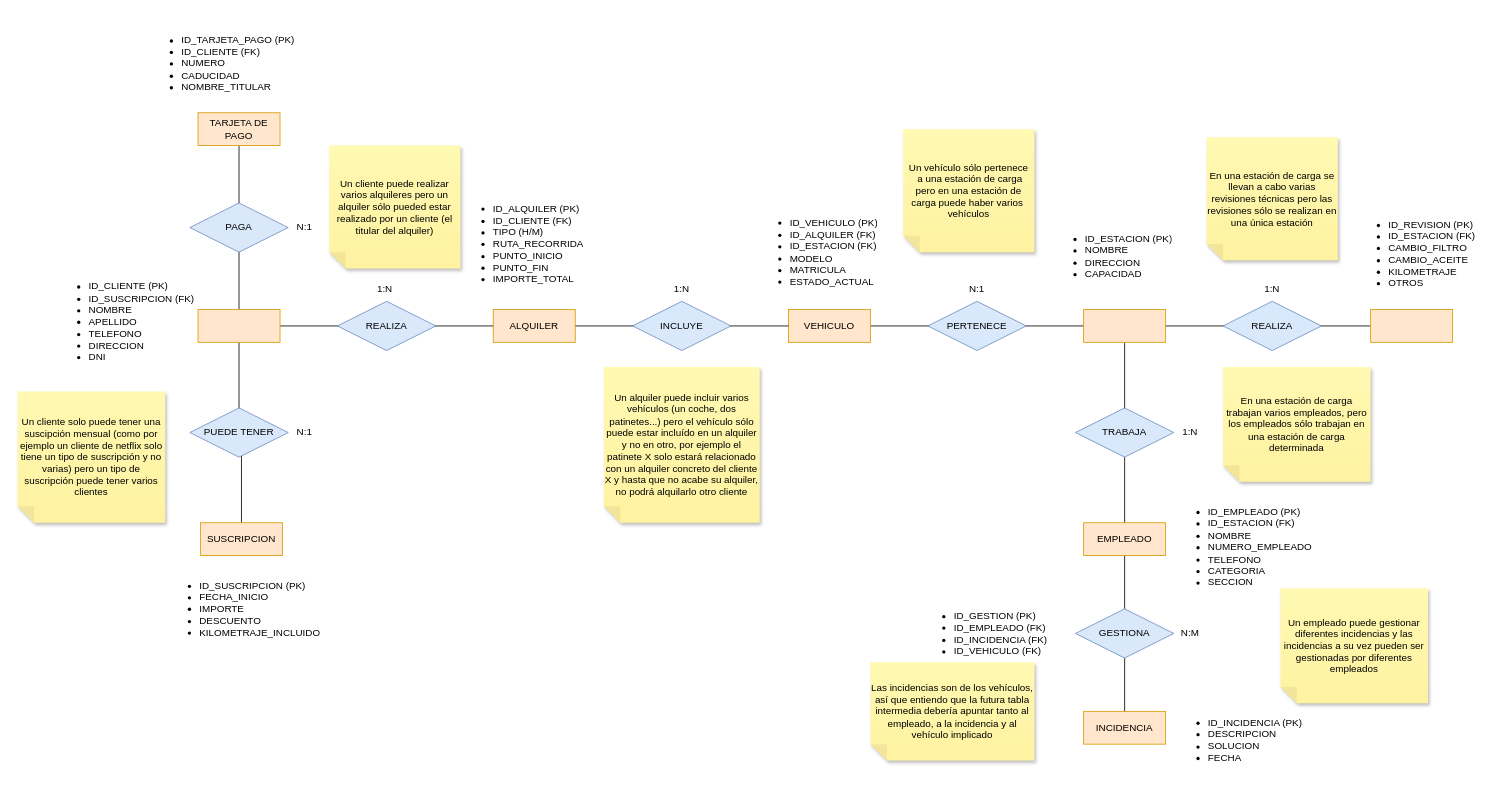
Some shapes in this 1507 by 799 pixel diagram are drawn without their labels. Here are the shapes that lost their labels. From the top down, the centre of each, then its label:
At (x=238, y=325): "CLIENTE".
At (x=1124, y=325): "ESTACION DE CARGA".
At (x=1411, y=325): "REVISION TECNICA".
